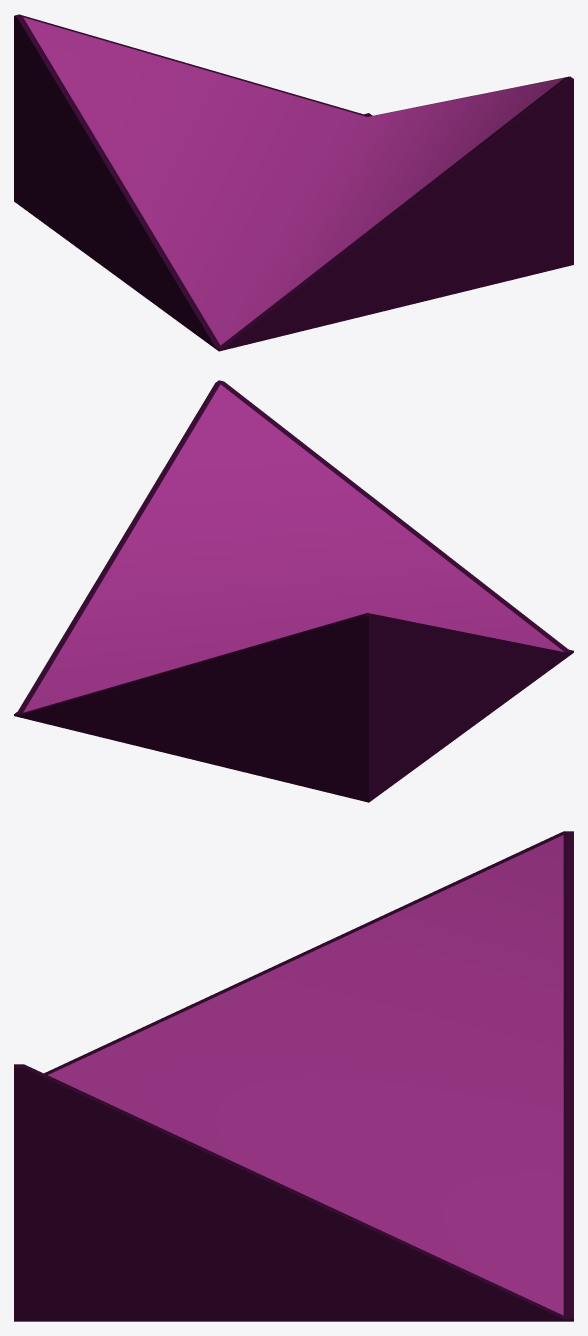
File: Casilla 29.fbx
The picture shows the model from 3 angles, top to bottom: view 1: azimuth 30°, elevation 25°; view 2: azimuth 150°, elevation 25°; view 3: azimuth 270°, elevation 25°; orthographic projection. The views are drawn at different scales.
Visible parts, largest first — view 1: pCube7; view 2: pCube7; view 3: pCube7.
Boxes of the visible parts, bbox=[...] form: pCube7: bbox=[14, 14, 573, 351]; pCube7: bbox=[14, 380, 573, 802]; pCube7: bbox=[14, 831, 573, 1321].
Size of the model in its own units: 200 by 100 by 200.
